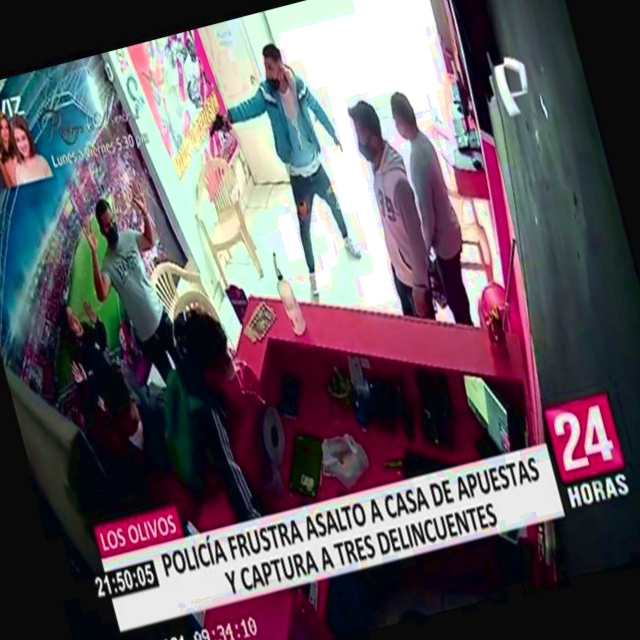gun: (195, 97, 237, 150)
